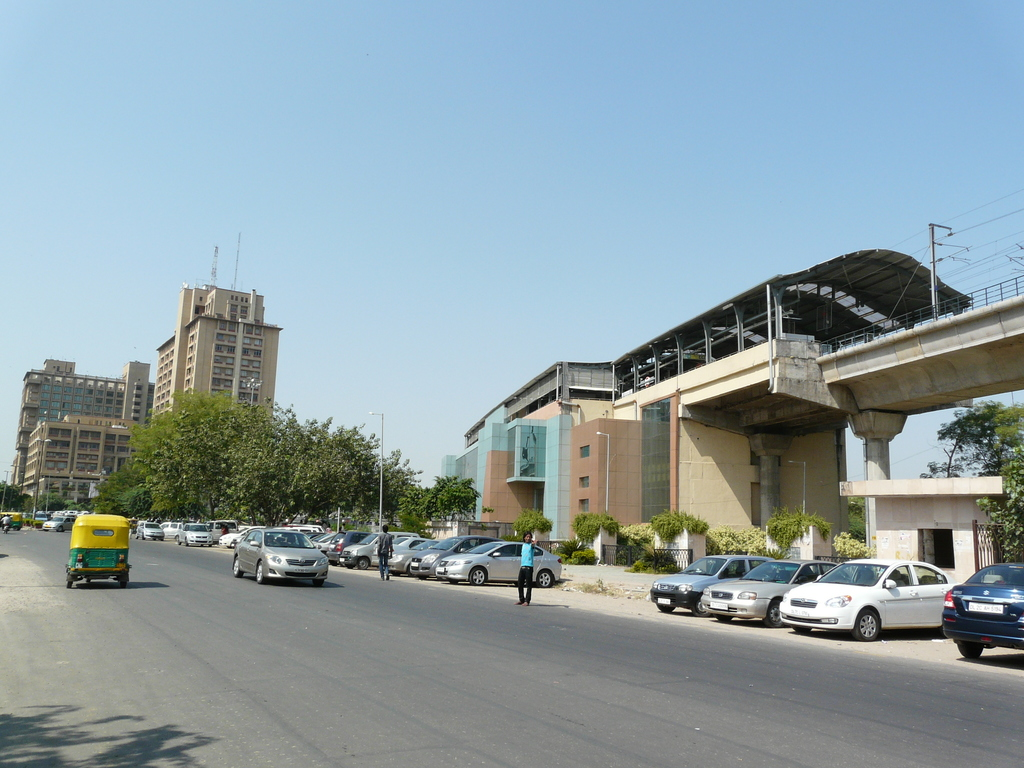Car: (135, 520, 566, 587), (779, 555, 954, 639), (700, 558, 852, 627), (650, 554, 784, 615), (942, 562, 1023, 657), (231, 529, 329, 587), (10, 510, 87, 533), (183, 513, 215, 549), (135, 520, 168, 541)
